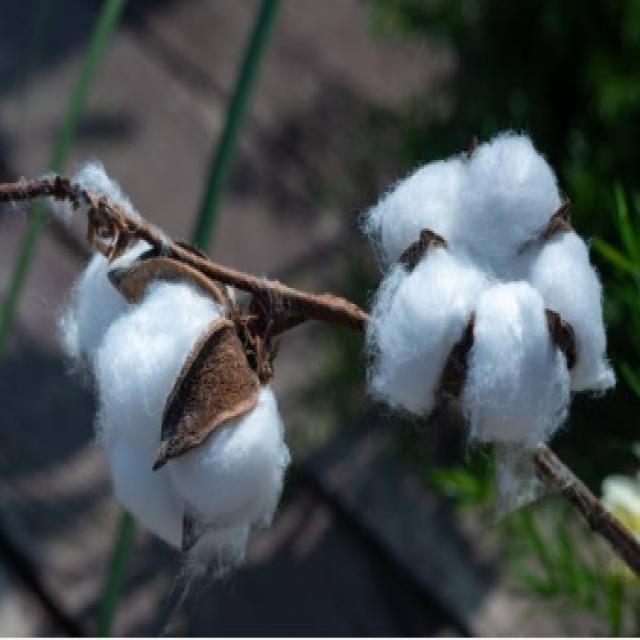Matured Cotton Boll: (367, 134, 618, 450), (59, 230, 290, 542)
